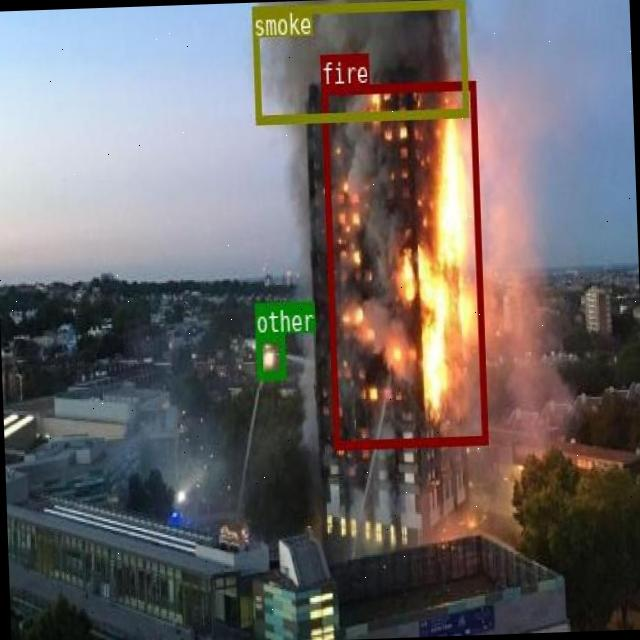fire: (320, 80, 487, 448)
smoke: (251, 0, 467, 122)
